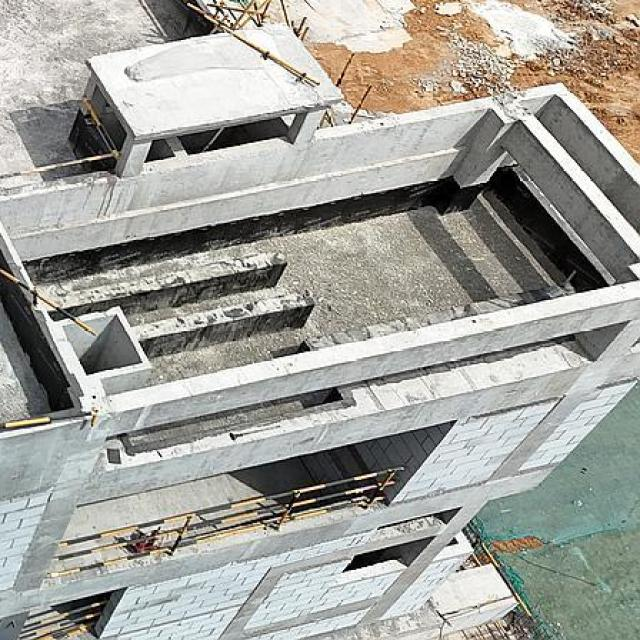edge_guardrail: (44, 465, 406, 581), (0, 96, 120, 184), (0, 268, 99, 338), (469, 524, 537, 624), (18, 598, 110, 640), (0, 408, 99, 432)
